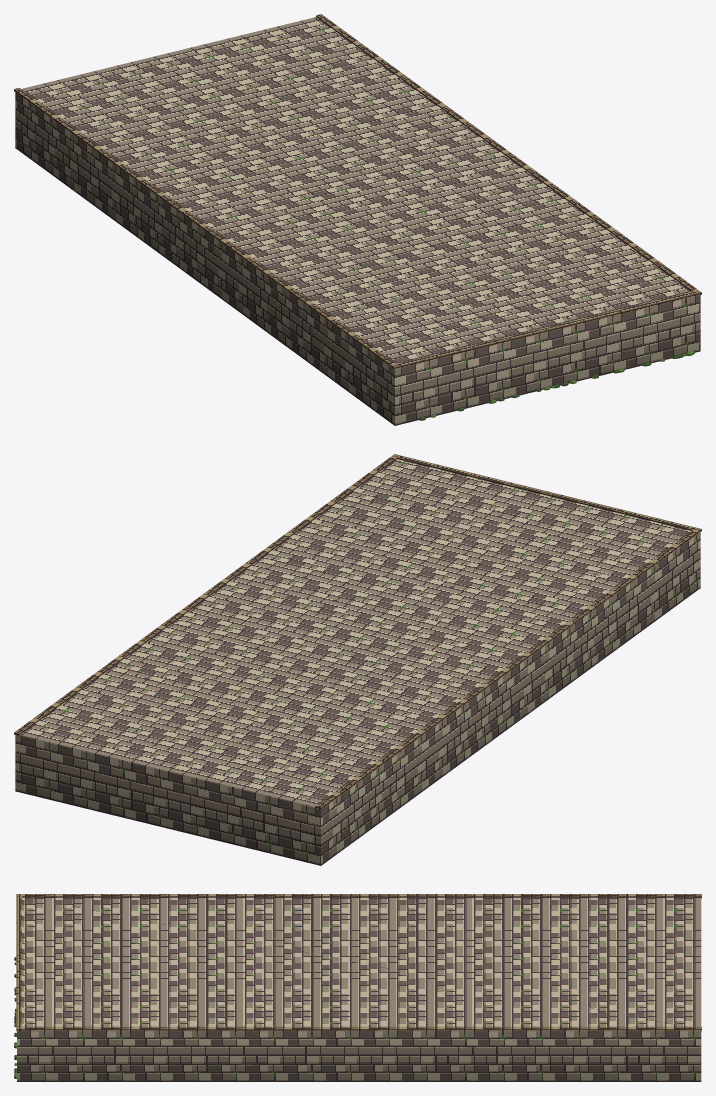
The model's file is scene_wall_w.glb.
3 renders of one model, top to bottom at view 1: azimuth 30°, elevation 25°; view 2: azimuth 150°, elevation 25°; view 3: azimuth 270°, elevation 25°, orthographic. The views are drawn at different scales.
Visible parts, largest first — view 1: scene_wall_w; view 2: scene_wall_w; view 3: scene_wall_w.
Part boxes in pixels (x1,y1,x2,y2): scene_wall_w: (14,14,701,425); scene_wall_w: (14,454,701,865); scene_wall_w: (14,894,701,1081).
Bounding box in the file's own units: 20.1 × 3.77 × 43.24.
Materials: 2 (1 with a texture image).
